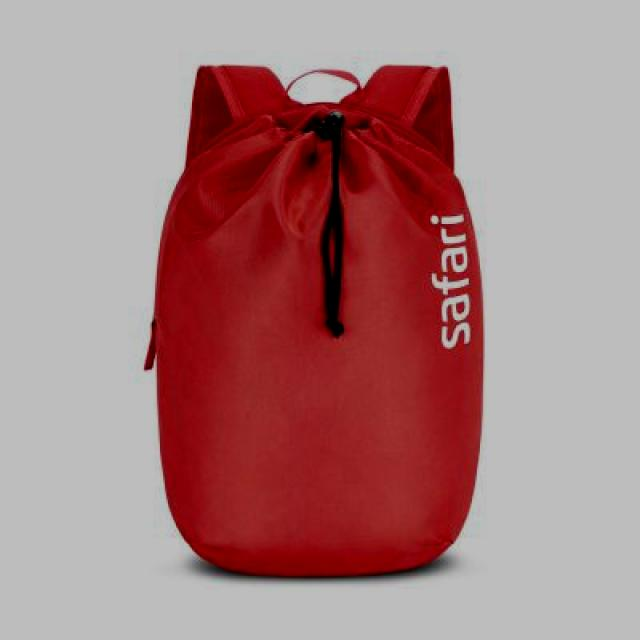backpack: (144, 63, 486, 577)
